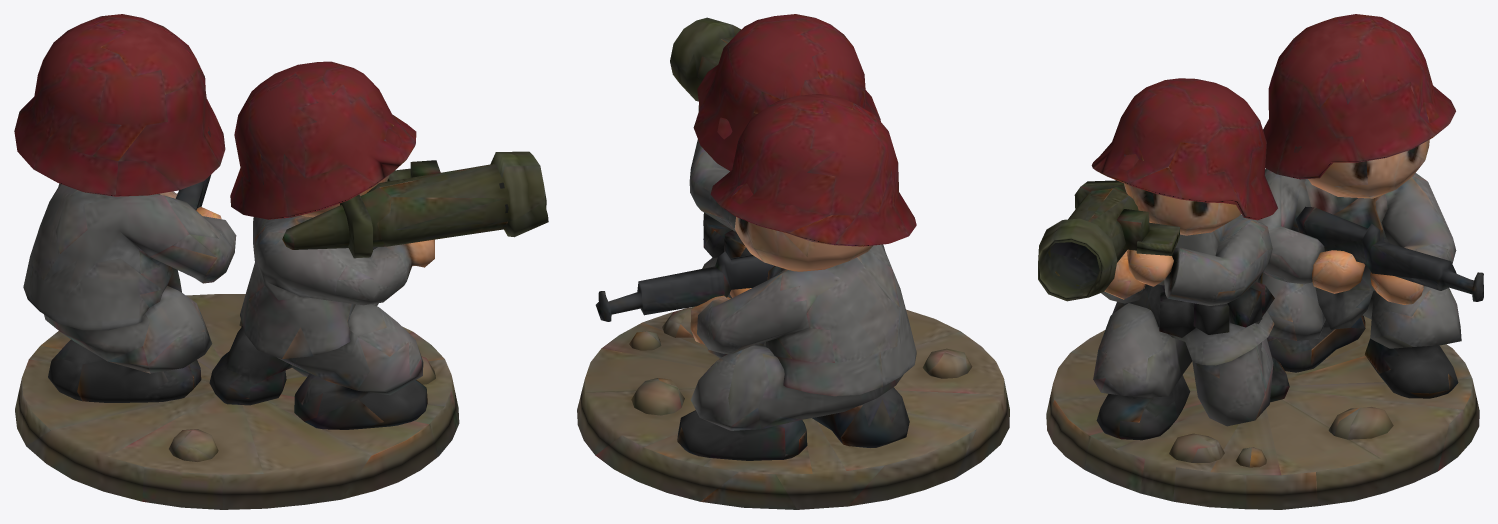
The model's file is at_team.glb.
The picture shows the model from 3 angles, left to right: view 1: azimuth 30°, elevation 25°; view 2: azimuth 150°, elevation 25°; view 3: azimuth 270°, elevation 25°; orthographic projection. The views are drawn at different scales.
Parts seen in each view (by area): view 1: hull; view 2: hull; view 3: hull.
Part boxes in pixels (x1,y1,x2,y2): hull: (14, 14, 548, 509); hull: (577, 14, 1009, 509); hull: (1038, 14, 1483, 509).
Size of the model in its own units: 1 by 0.8949 by 1.
1 material, 1 textured.
